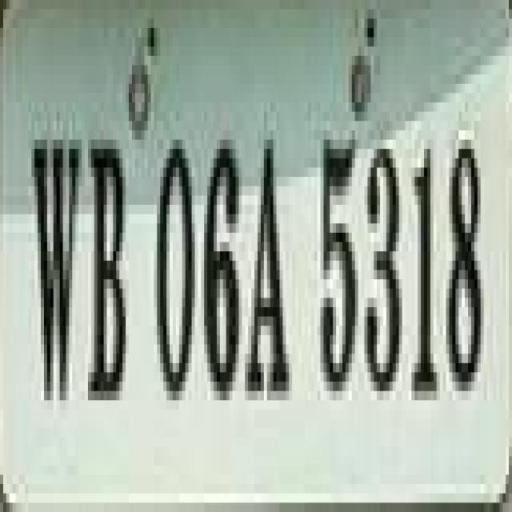number plate: (12, 18, 512, 502)
